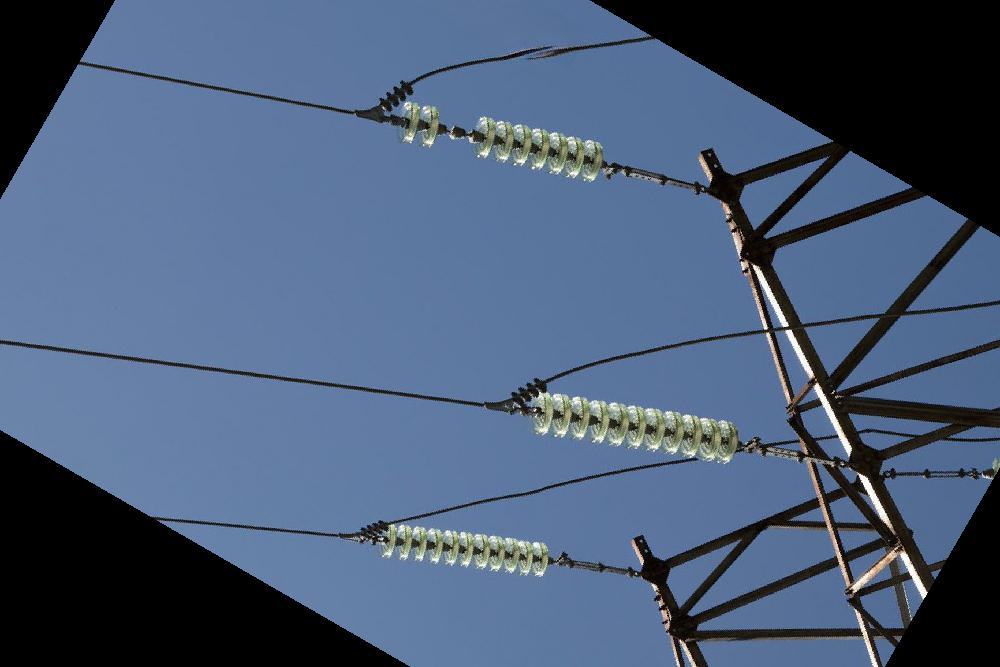insulator: (396, 98, 611, 186), (525, 386, 745, 472), (373, 520, 556, 583)
insulator_stringdrop: (415, 99, 498, 166)
